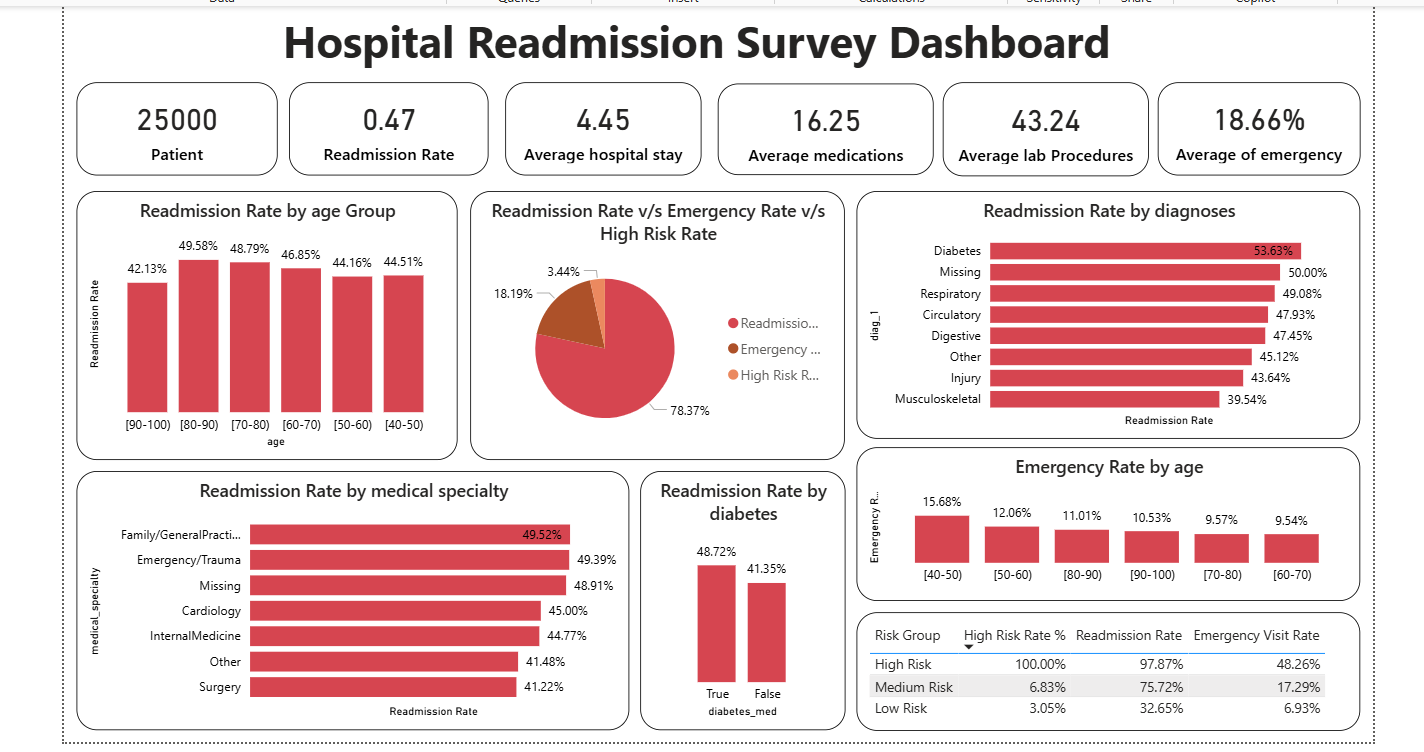

Layout of this report page (visuals, bound fields, positions):
{"tool":"powerbi","page":{"name":"Page 1","canvas":[1280,720],"ordinal":0},"visuals":[{"type":"card","fields":{"Values":["CountNonNull(hospital_readmissions.diag_3)"]},"box":[12.3,75,196.8,91],"z":0},{"type":"card","fields":{"Values":["Measure Table.Readmission Rate"]},"box":[220.1,75,195.5,91],"z":1000},{"type":"clusteredColumnChart","title":"Readmission Rate by age Group","fields":{"Category":["hospital_readmissions.age"],"Y":["Measure Table.Readmission Rate"]},"box":[12.3,180.8,372.6,263.2],"z":2000},{"type":"clusteredBarChart","title":"Readmission Rate by medical specialty","fields":{"Y":["Measure Table.Readmission Rate"],"Category":["hospital_readmissions.medical_specialty"]},"box":[12.3,455,541.1,253.3],"z":3000},{"type":"card","fields":{"Values":["Avg(hospital_readmissions.time_in_hospital)"]},"box":[431.7,75,191.9,91],"z":4000},{"type":"card","fields":{"Values":["Avg(hospital_readmissions.n_medications)"]},"box":[639.5,76.2,211.5,89.8],"z":5000},{"type":"clusteredBarChart","title":"Readmission Rate by diagnoses","fields":{"Y":["Measure Table.Readmission Rate"],"Category":["hospital_readmissions.diag_1"]},"box":[774.8,180.8,493.2,242.3],"z":6000},{"type":"card","fields":{"Values":["Avg(hospital_readmissions.n_lab_procedures)"]},"box":[859.6,75,201.7,92.2],"z":7000},{"type":"card","fields":{"Values":["Avg(hospital_readmissions.n_emergency)"]},"box":[1069.9,75,198,91],"z":8000},{"type":"textbox","box":[209.1,0,895.3,66.4],"z":9000},{"type":"tableEx","fields":{"Values":["hospital_readmissions.Risk Group","Measure Table.High Risk Rate %","Measure Table.Readmission Rate","Measure Table.Emergency Rate"]},"box":[774.8,592.8,493.2,115.6],"z":10000},{"type":"columnChart","fields":{"Y":["Measure Table.Emergency Rate"],"Category":["hospital_readmissions.age"]},"box":[774.8,431.7,493.2,150],"z":11000},{"type":"clusteredColumnChart","title":"Readmission Rate by diabetes","fields":{"Category":["hospital_readmissions.diabetes_med"],"Y":["Measure Table.Readmission Rate"]},"box":[563.3,455,200.5,253.3],"z":12000},{"type":"pieChart","title":"Readmission Rate v/s Emergency Rate v/s High Risk Rate","fields":{"Y":["Measure Table.Readmission Rate","Measure Table.Emergency Rate","Measure Table.High Risk Rate %"]},"box":[397.2,180.8,366.5,263.2],"z":13000}]}

Visuals, with their boxes on the page's 1280x720 design canvas (x1, y1, x2, y2). These are canvas units, not pixel positions in the 1424x752 screenshot, which may show the page scaled, cropped or inside an application window:
card - CountNonNull(hospital_readmissions.diag_3): (left=12, top=75, right=209, bottom=166)
card - Measure Table.Readmission Rate: (left=220, top=75, right=416, bottom=166)
"Readmission Rate by age Group" clusteredColumnChart: (left=12, top=181, right=385, bottom=444)
"Readmission Rate by medical specialty" clusteredBarChart: (left=12, top=455, right=553, bottom=708)
card - Avg(hospital_readmissions.time_in_hospital): (left=432, top=75, right=624, bottom=166)
card - Avg(hospital_readmissions.n_medications): (left=640, top=76, right=851, bottom=166)
"Readmission Rate by diagnoses" clusteredBarChart: (left=775, top=181, right=1268, bottom=423)
card - Avg(hospital_readmissions.n_lab_procedures): (left=860, top=75, right=1061, bottom=167)
card - Avg(hospital_readmissions.n_emergency): (left=1070, top=75, right=1268, bottom=166)
textbox: (left=209, top=0, right=1104, bottom=66)
tableEx - hospital_readmissions.Risk Group x Measure Table.High Risk Rate %: (left=775, top=593, right=1268, bottom=708)
columnChart - Measure Table.Emergency Rate x hospital_readmissions.age: (left=775, top=432, right=1268, bottom=582)
"Readmission Rate by diabetes" clusteredColumnChart: (left=563, top=455, right=764, bottom=708)
"Readmission Rate v/s Emergency Rate v/s High Risk Rate" pieChart: (left=397, top=181, right=764, bottom=444)
